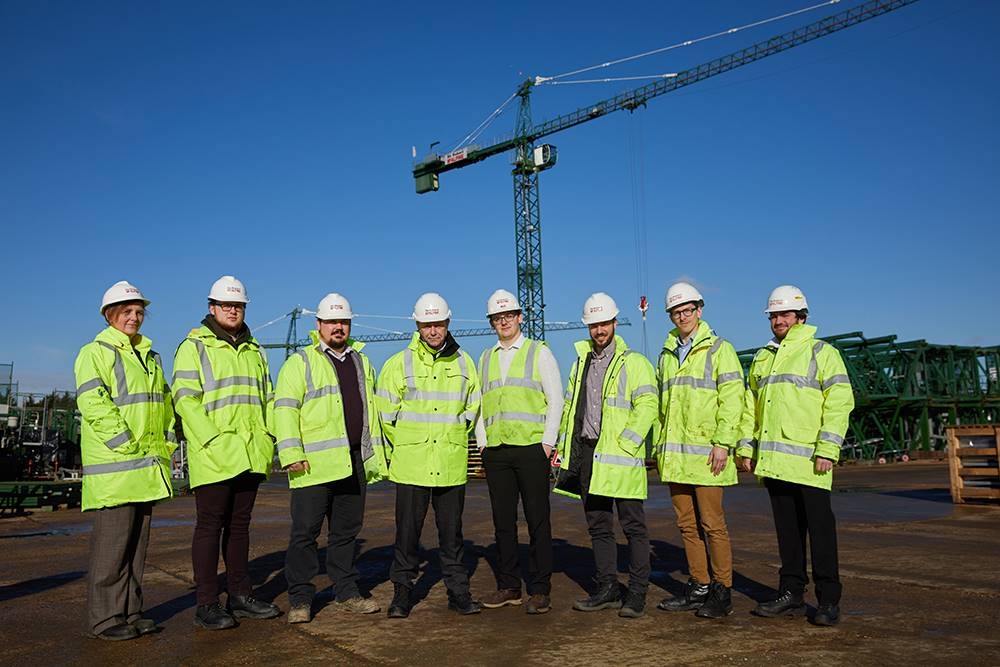Helmet: (95, 277, 154, 344), (408, 287, 459, 357), (575, 287, 627, 355), (760, 279, 816, 342), (202, 271, 254, 337), (660, 279, 715, 340), (310, 290, 363, 352), (480, 284, 532, 346)
Reflective vest: (70, 324, 177, 515), (742, 324, 855, 499), (173, 320, 278, 503), (275, 337, 387, 506), (556, 337, 657, 511), (650, 327, 745, 503), (372, 340, 479, 492), (475, 334, 555, 464)
